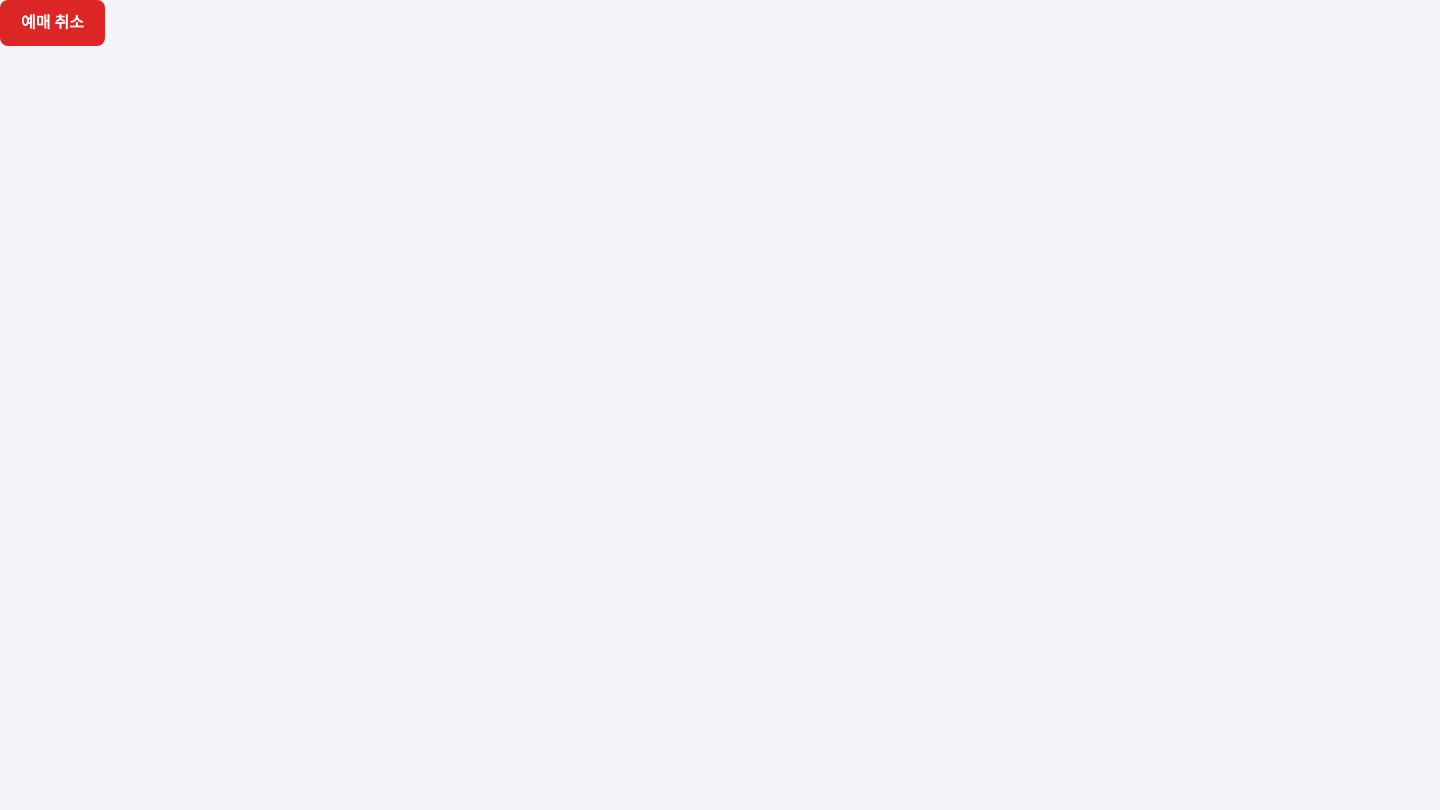
Test: 예매 취소는 확인 다이얼로그를 거친다
The image size is (1440, 810).
Later steps or results of the test are not shown.
Click the button "예매 취소". click: (52, 23)
box: top-left (0, 0), bottom-right (105, 46)
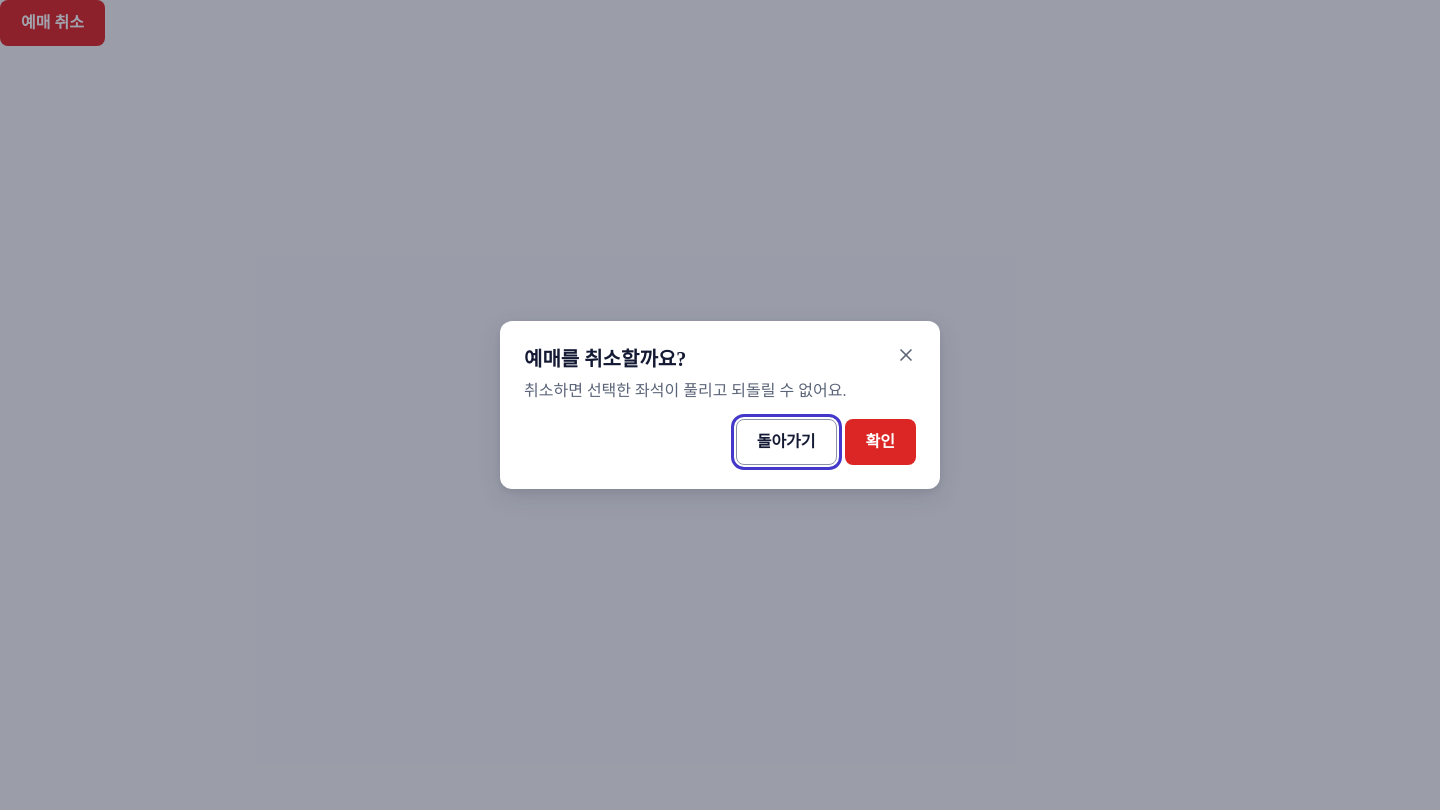
Check: the dialog "예매를 취소할까요?" is shown, box top-left (500, 321), bottom-right (940, 489)
Click the button "돌아가기". click: (786, 442)
box: top-left (736, 419), bottom-right (837, 465)
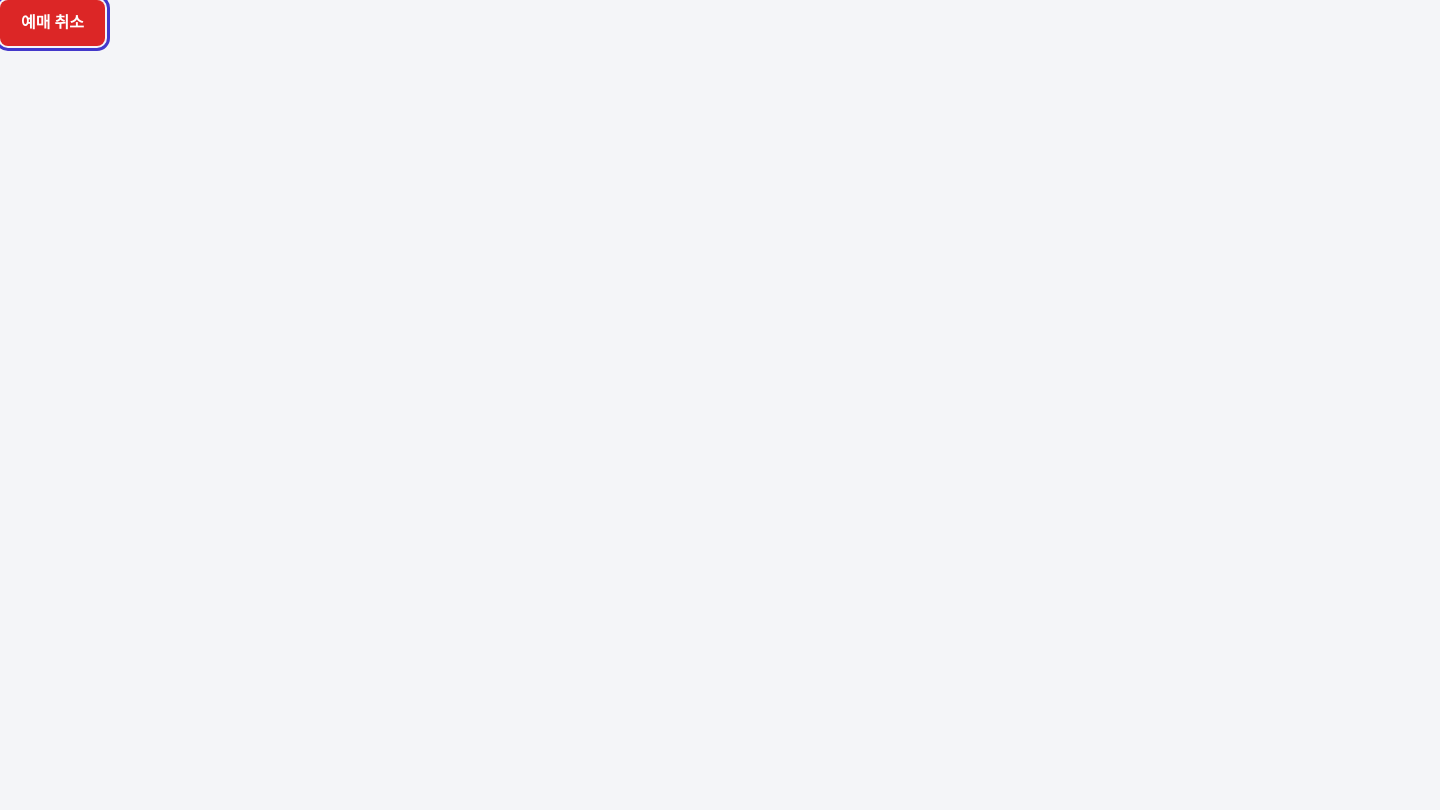
Check: the dialog is gone
